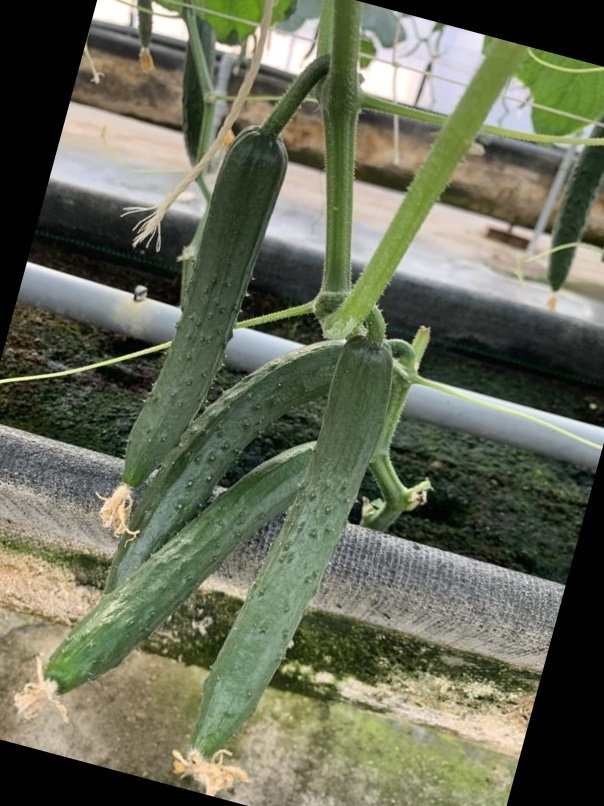mature: (184, 339, 392, 747), (44, 440, 324, 694), (115, 127, 292, 499)
